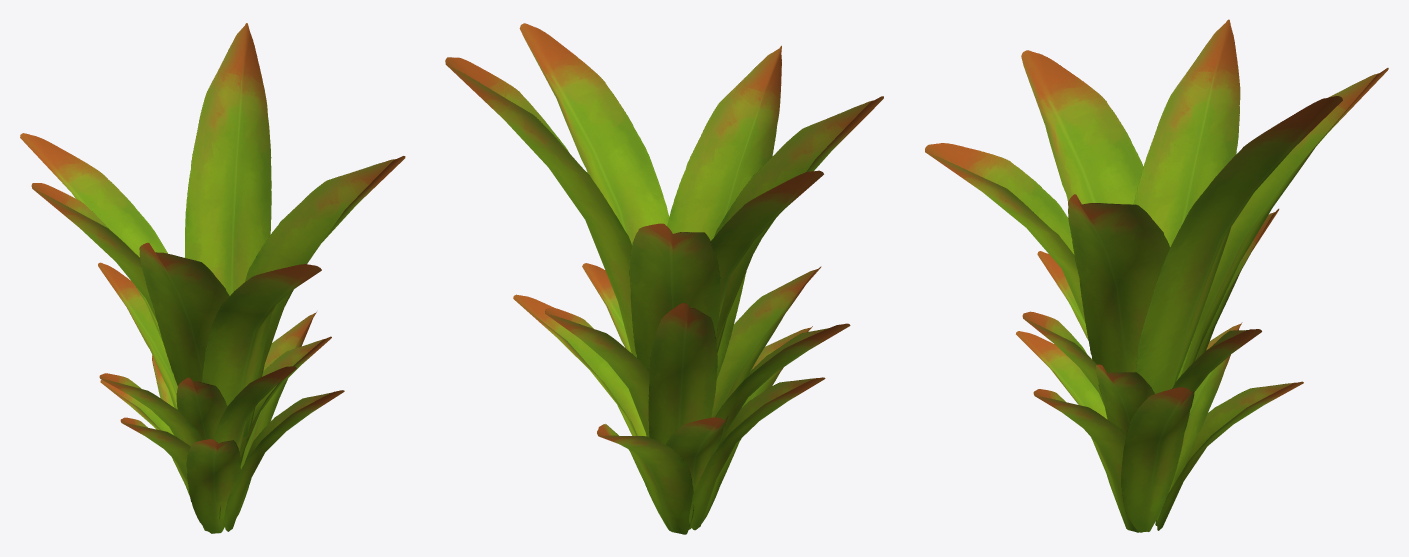
Rendered from plant-2.glb.
3 renders of one model, left to right at view 1: azimuth 30°, elevation 25°; view 2: azimuth 150°, elevation 25°; view 3: azimuth 270°, elevation 25°, orthographic. The views are drawn at different scales.
Visible parts, largest first — view 1: plant-2; view 2: plant-2; view 3: plant-2.
Boxes of the visible parts, x1=… form: plant-2: x1=20, y1=23, x2=405, y2=533; plant-2: x1=445, y1=23, x2=883, y2=534; plant-2: x1=925, y1=19, x2=1388, y2=532.
Size of the model in its own units: 1.81 by 2.35 by 1.95.
1 material, 1 textured.
